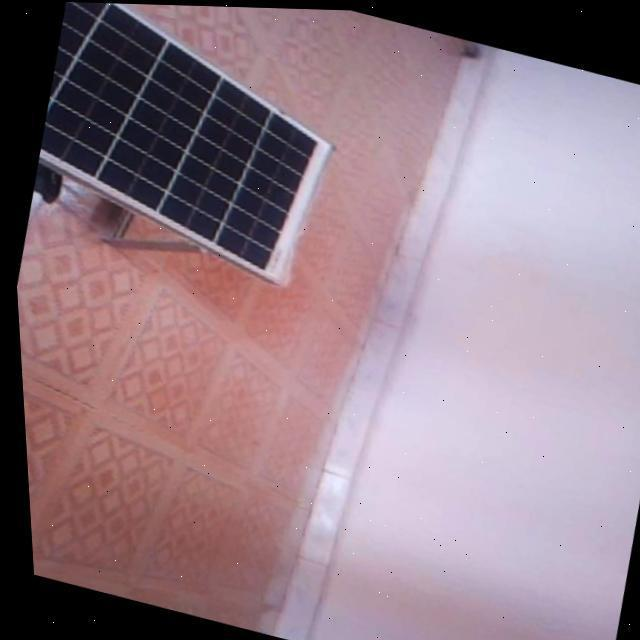Normal Solar Panel: (15, 0, 360, 289)
